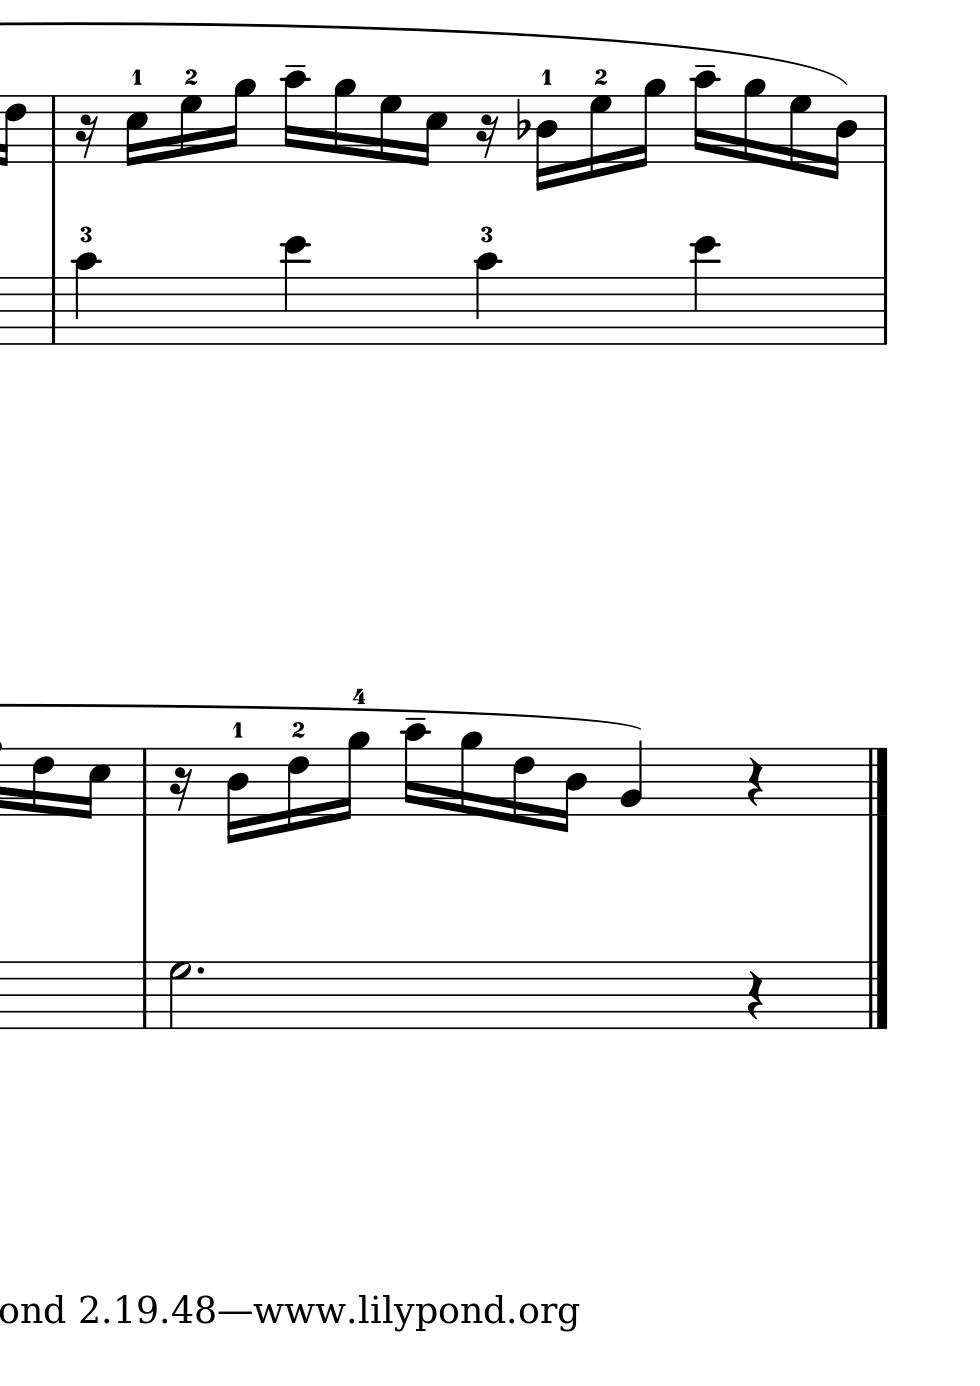1: (539, 66, 557, 88), (231, 719, 247, 742), (129, 66, 145, 88)
16_10: (690, 69, 719, 164), (281, 68, 309, 166), (401, 720, 428, 817)
16_4: (557, 747, 587, 835), (224, 745, 249, 845), (828, 93, 857, 181), (533, 93, 557, 193)
16_5: (78, 747, 110, 821), (416, 94, 448, 168), (123, 94, 148, 168)
16_6: (285, 745, 309, 834), (511, 745, 535, 827), (2, 94, 28, 166), (30, 745, 54, 817)
16_7: (587, 93, 611, 182), (786, 92, 811, 177), (177, 92, 202, 166), (377, 92, 401, 166)
16_9: (335, 730, 369, 824), (633, 77, 665, 170), (224, 77, 255, 165), (331, 76, 355, 165), (458, 729, 482, 819), (741, 76, 764, 165)
2: (591, 66, 613, 90), (288, 720, 307, 740), (182, 66, 199, 87)
2_7: (167, 959, 192, 1030)
3: (479, 224, 494, 244), (78, 225, 93, 244)
4: (351, 686, 367, 705)
4_10: (472, 251, 501, 347), (71, 250, 99, 349)
4_12: (278, 235, 310, 348), (689, 235, 720, 348)
4_2: (618, 740, 643, 817)
Final_barline: (864, 747, 890, 815), (863, 961, 888, 1028)
Flat: (514, 97, 529, 142)
Rests16: (169, 766, 193, 813), (474, 113, 498, 160), (74, 113, 99, 159)
Rests4: (745, 969, 766, 1023), (745, 756, 765, 809)
Single_barline: (136, 748, 153, 814), (45, 97, 62, 161), (46, 276, 62, 344), (136, 961, 152, 1028), (878, 95, 893, 162), (877, 278, 892, 344)
dot: (194, 963, 206, 977)
